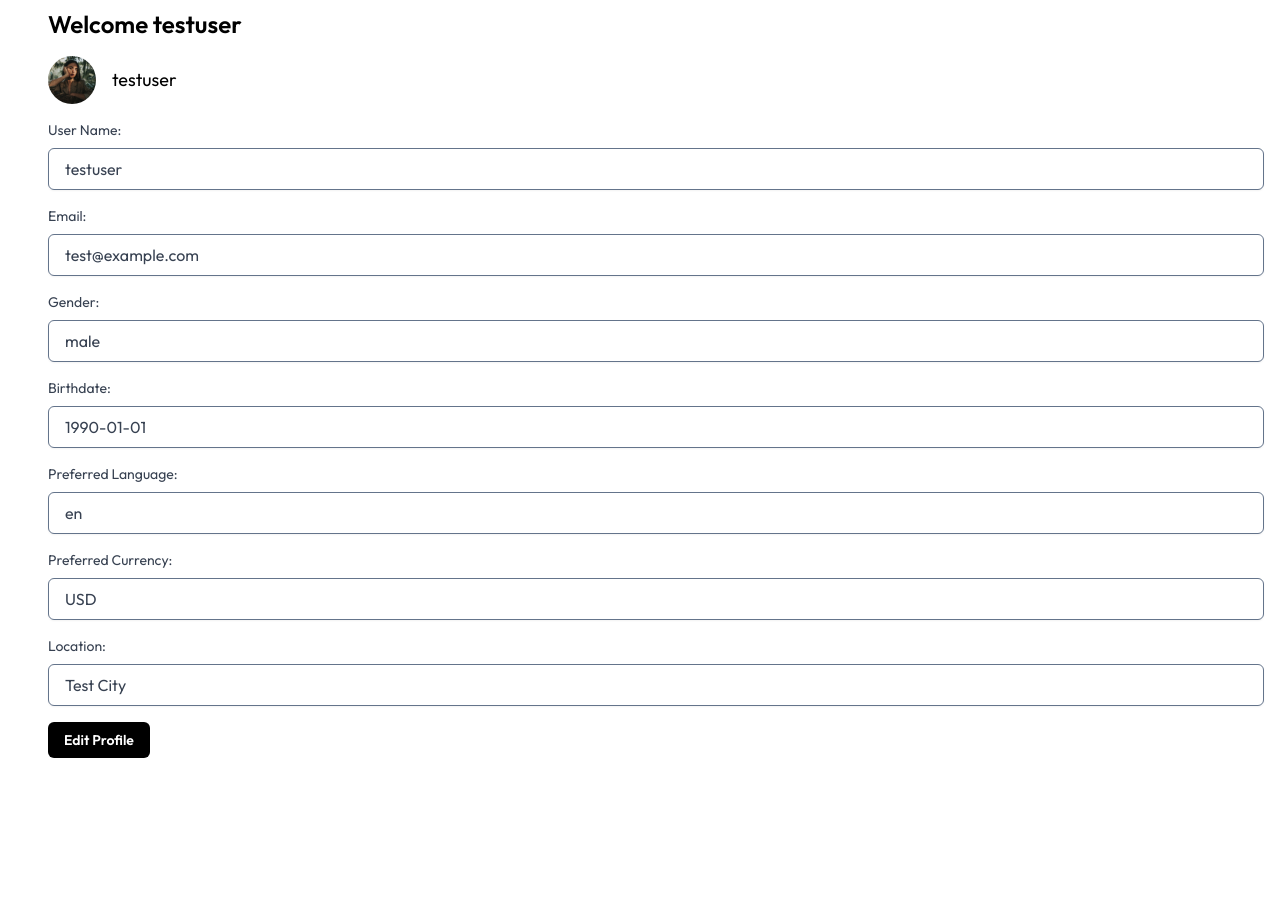
Test: EditProfile › switches to edit mode when "Edit Profile" button is clicked
The width and height of the screenshot is (1280, 900).
Click the button "Edit Profile" at [99, 740], box x1=48 y1=722 x2=150 y2=758
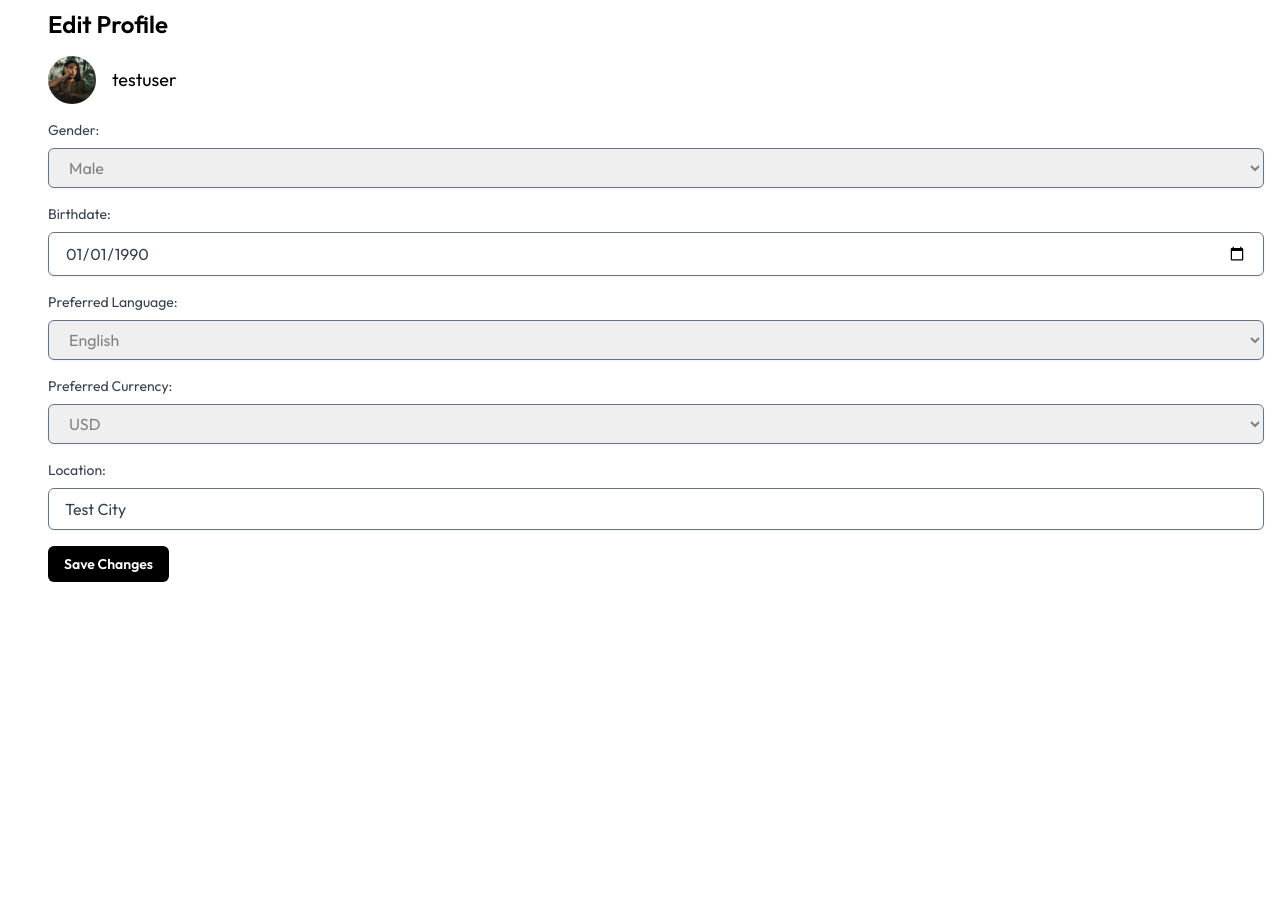
Now the heading "Edit Profile" is shown, box x1=48 y1=9 x2=168 y2=39
Now the dropdown labelled "Gender:" is shown, box x1=48 y1=148 x2=1264 y2=188
